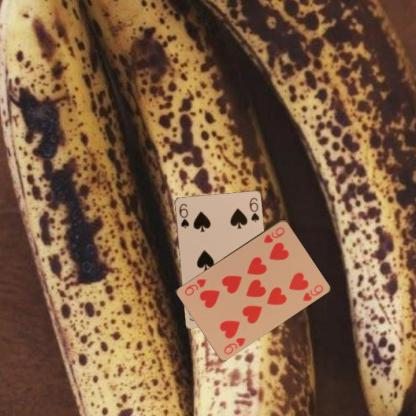6s: (176, 201, 190, 230)
9h: (221, 335, 247, 356), (261, 224, 286, 245)
